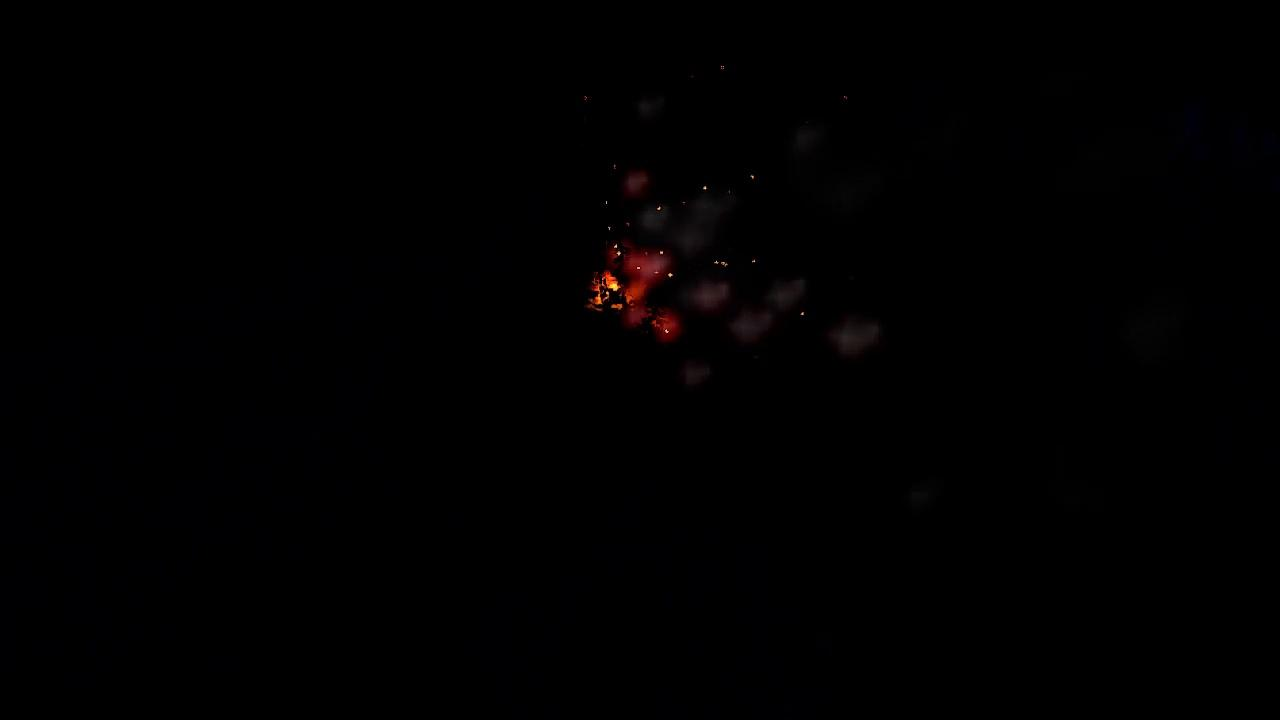fire: (589, 271, 628, 313)
smoke: (613, 170, 895, 357)
